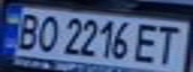1: (97, 17, 118, 60)
2: (57, 15, 84, 56), (78, 16, 100, 58)
6: (112, 19, 136, 61)
B: (9, 10, 45, 51)
E: (130, 20, 166, 65)
O: (30, 12, 63, 53)
T: (151, 23, 190, 66)
